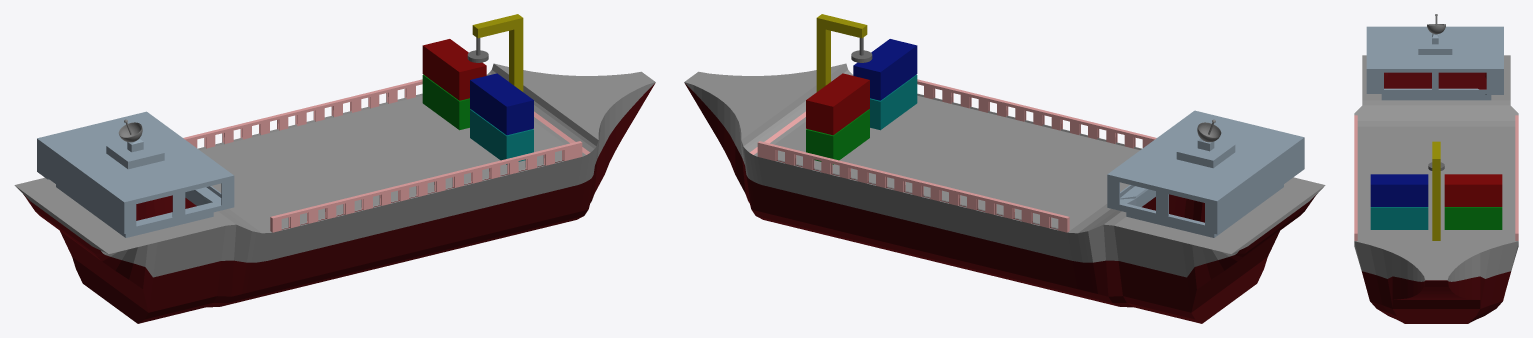
Rendered from _hip.fbx.
The picture shows the model from 3 angles, left to right: view 1: azimuth 30°, elevation 25°; view 2: azimuth 150°, elevation 25°; view 3: azimuth 270°, elevation 25°; orthographic projection. The views are drawn at different scales.
Parts seen in each view (by area): view 1: Cube, Konteynir.002, Konteynir.003, Konteynir, VincTutucu, Konteynir.001; view 2: Cube, Konteynir.003, Konteynir.002, Konteynir.001, VincTutucu, Konteynir; view 3: Cube, Konteynir.002, Konteynir.003, Konteynir, Konteynir.001, VincTutucu, Sphere.
Part boxes in pixels (x1,y1,x2,y2): Cube: (14,63,655,323); Konteynir.002: (470,73,533,135); Konteynir.003: (422,39,486,100); Konteynir: (470,109,533,164); VincTutucu: (472,14,523,91); Konteynir.001: (422,74,470,130); Cube: (684,63,1325,323); Konteynir.003: (806,73,869,135); Konteynir.002: (853,39,917,100); Konteynir.001: (806,109,869,164); VincTutucu: (816,14,867,91); Konteynir: (869,74,917,130); Cube: (1354,26,1518,323); Konteynir.002: (1370,174,1428,206); Konteynir.003: (1444,174,1502,206); Konteynir: (1370,207,1428,229); Konteynir.001: (1444,207,1502,229); VincTutucu: (1432,141,1440,240); Sphere: (1427,24,1445,34).
Size of the model in its own units: 646 by 198 by 200.
